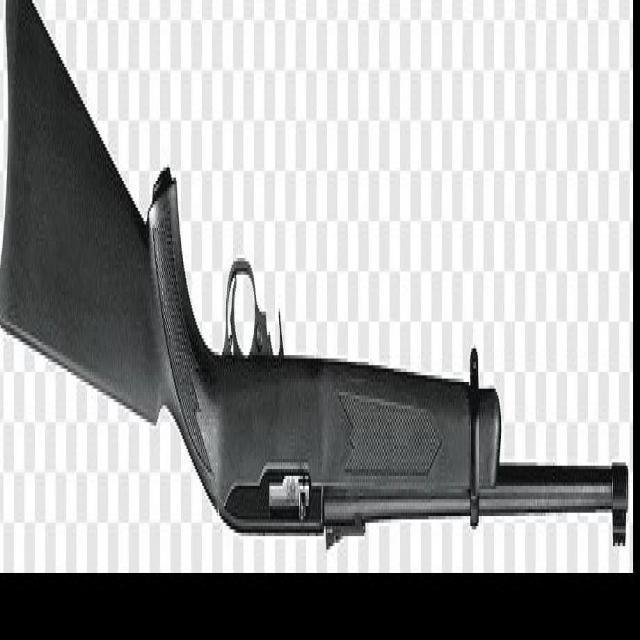weapon: (0, 0, 630, 551)
